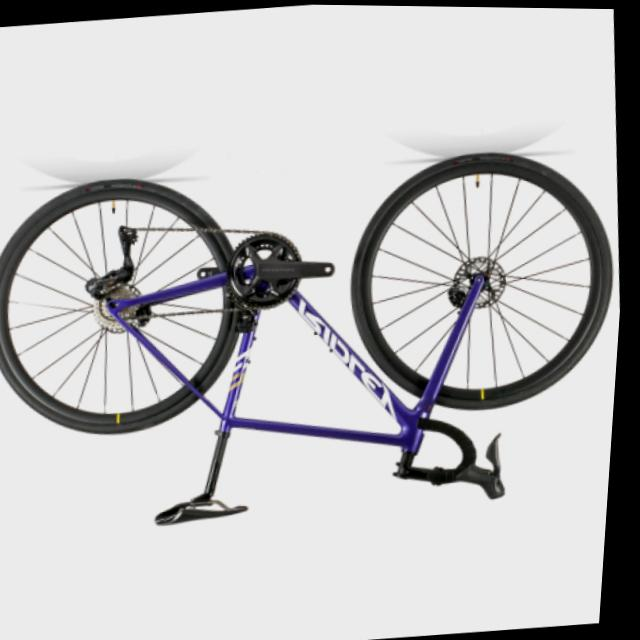road-bike: (0, 135, 633, 547)
